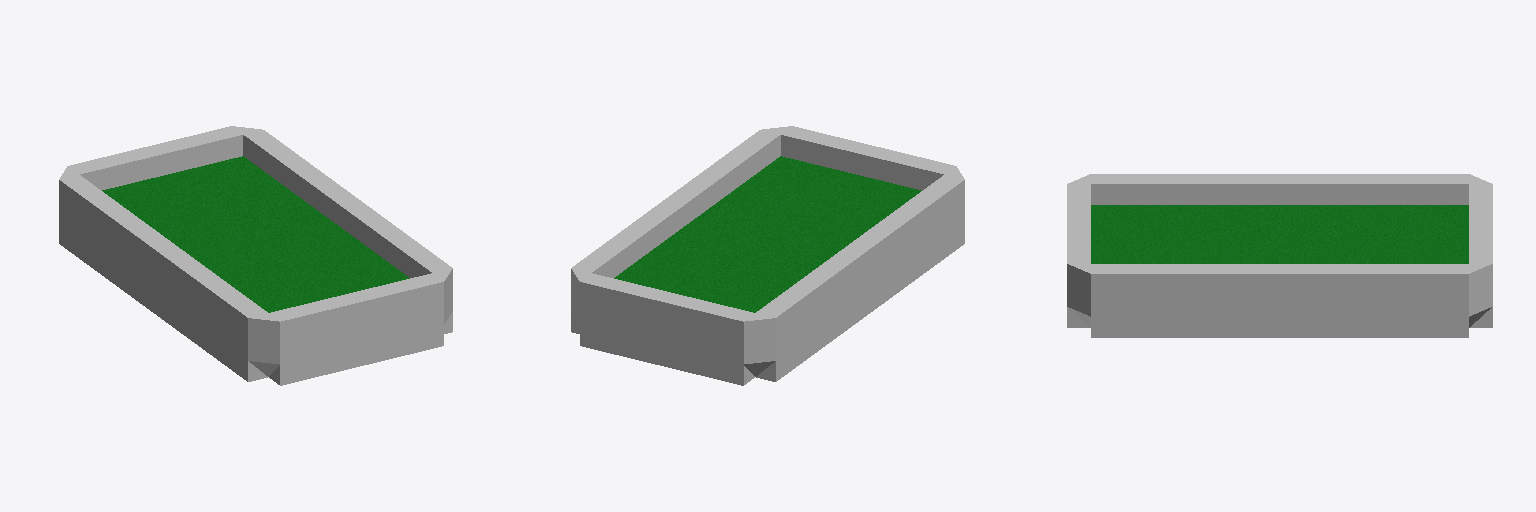
The picture shows the model from 3 angles: view 1: azimuth 30°, elevation 25°; view 2: azimuth 150°, elevation 25°; view 3: azimuth 270°, elevation 25°; orthographic projection.
Visible parts, largest first — view 1: Table, CueStick; view 2: Table, CueStick; view 3: Table, CueStick.
Boxes of the visible parts, box(x1,y1,x2,y2) form: Table: box(59, 126, 452, 385); CueStick: box(102, 156, 409, 312); Table: box(571, 126, 964, 385); CueStick: box(614, 156, 921, 312); Table: box(1067, 174, 1492, 337); CueStick: box(1091, 205, 1468, 263).
Bounding box in the file's own units: 5 × 1.5 × 9.
Materials: 2 (1 with a texture image).